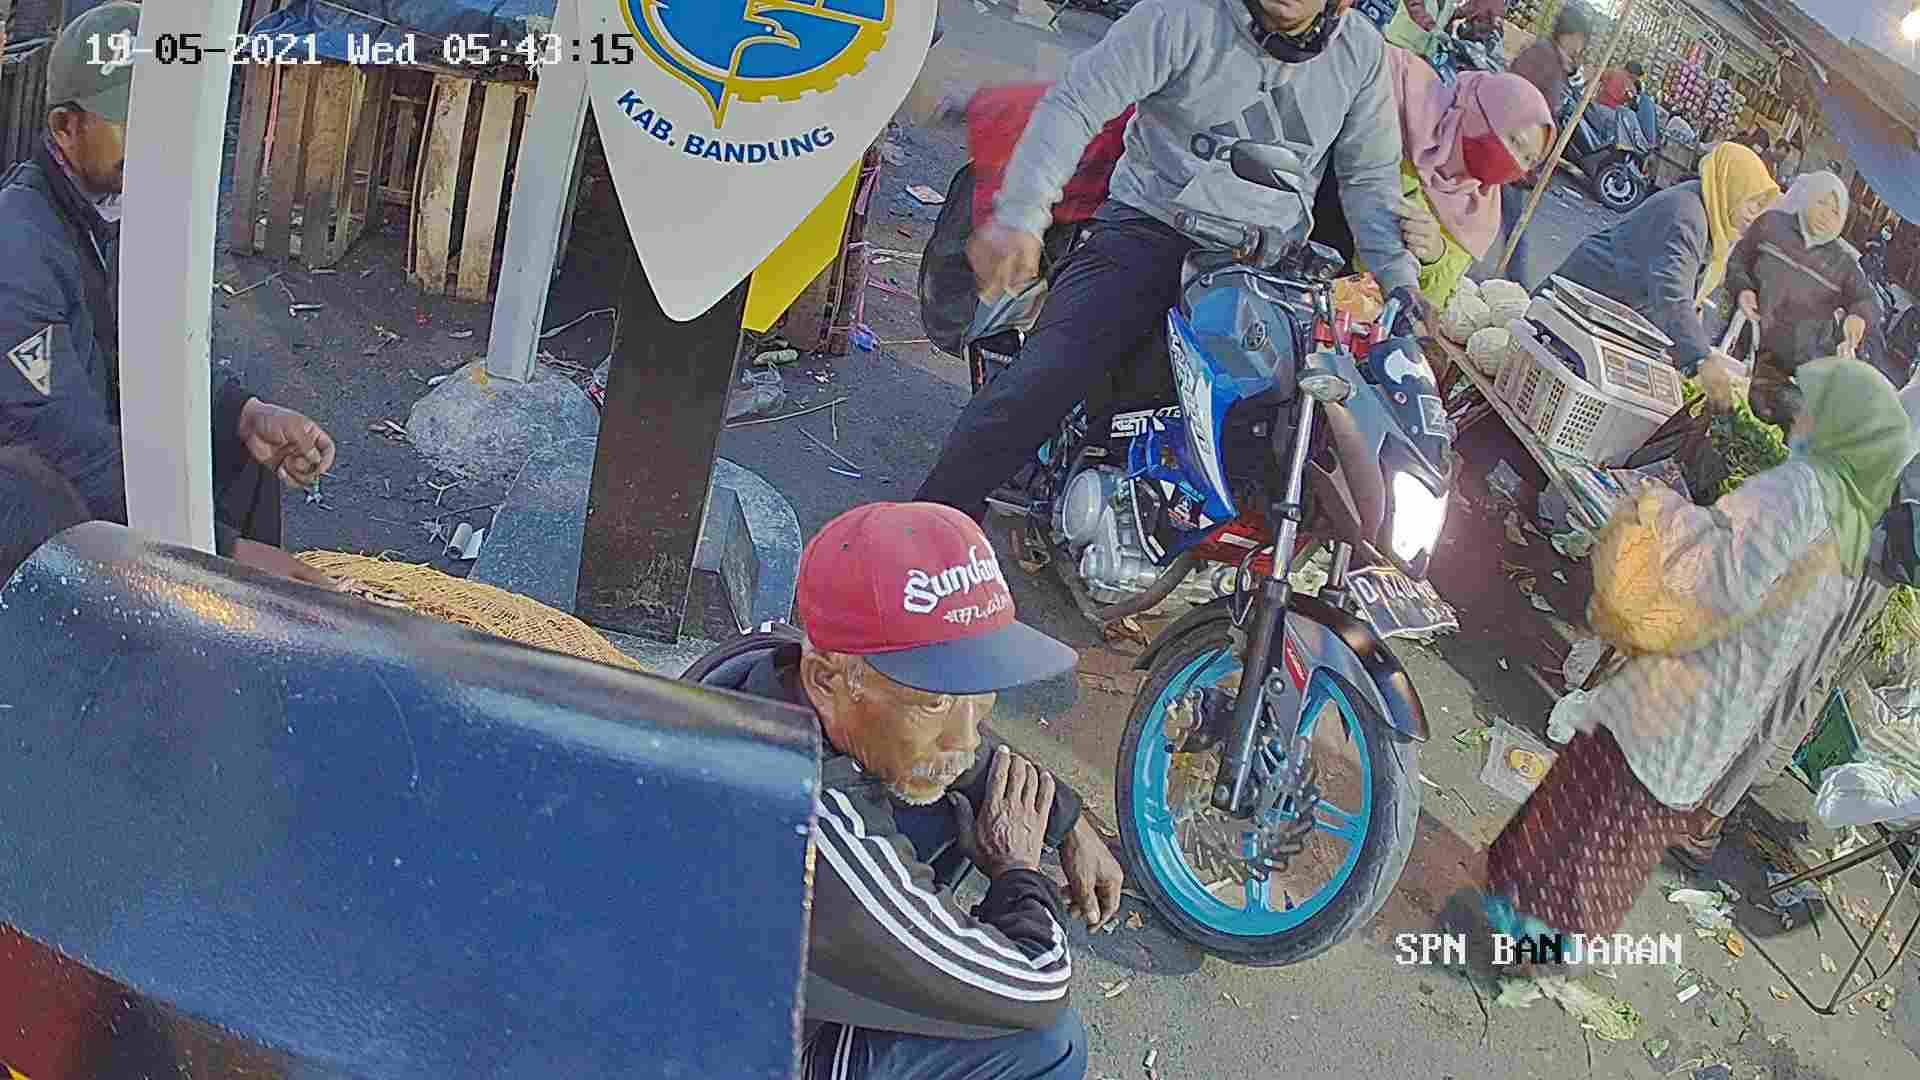motor: (1058, 231, 1462, 975)
